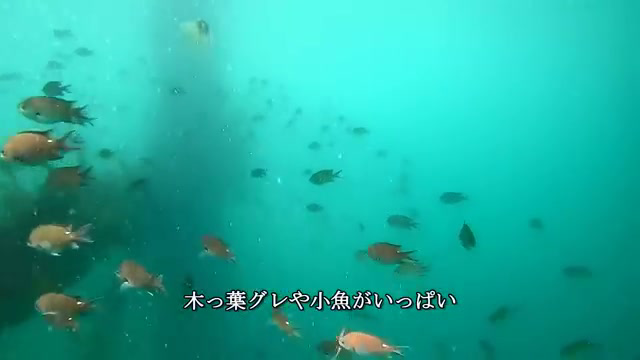smallfish: (17, 94, 97, 135), (3, 128, 76, 170), (30, 217, 103, 259), (193, 226, 244, 279), (113, 256, 166, 306), (31, 287, 99, 323), (367, 237, 415, 273), (381, 206, 423, 240), (304, 162, 347, 188)
